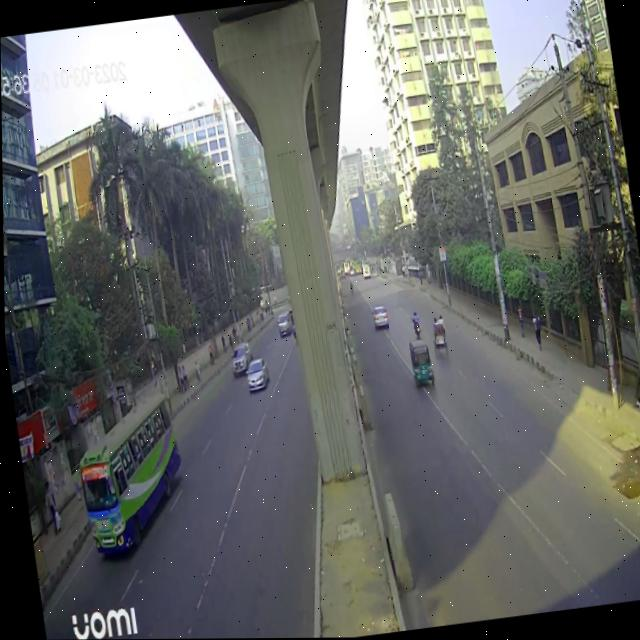cng: (407, 335, 434, 393)
